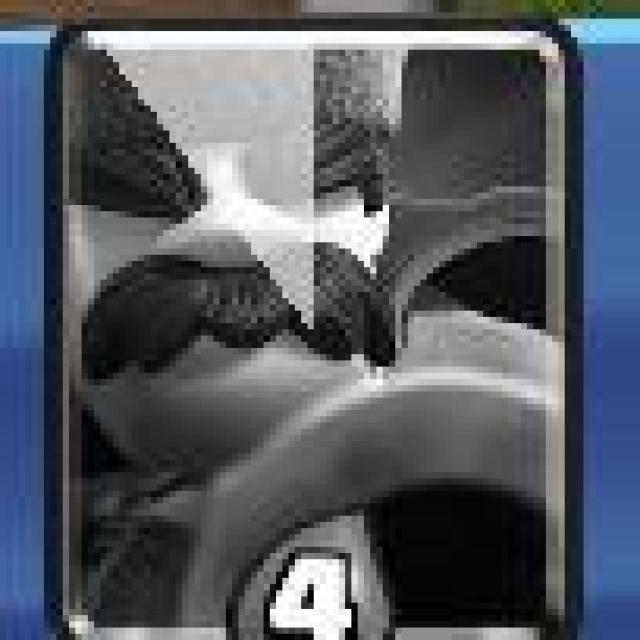Hunter: (48, 22, 584, 638)
